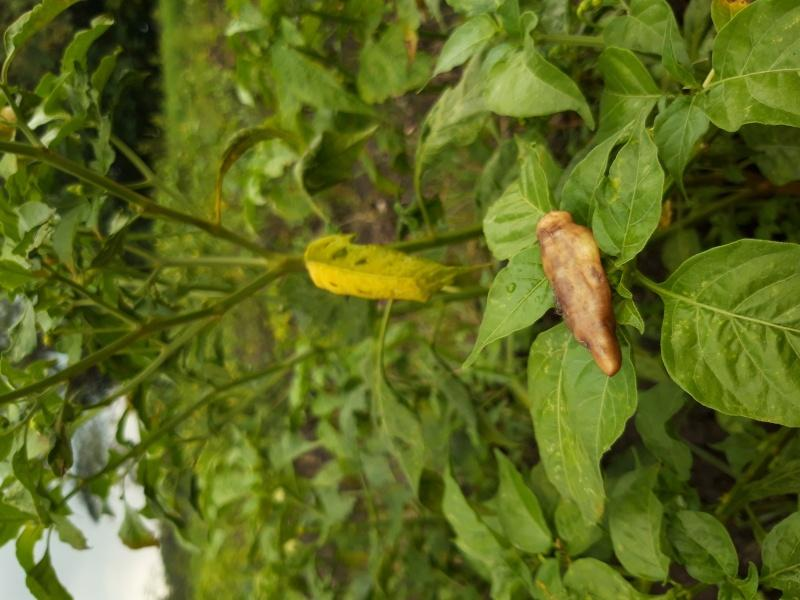lalat_buah: (535, 210, 622, 376)
